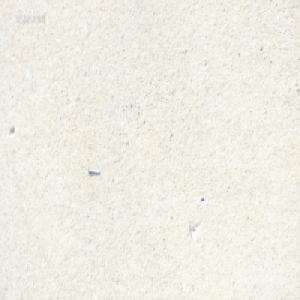Nail: (87, 164, 100, 174)
